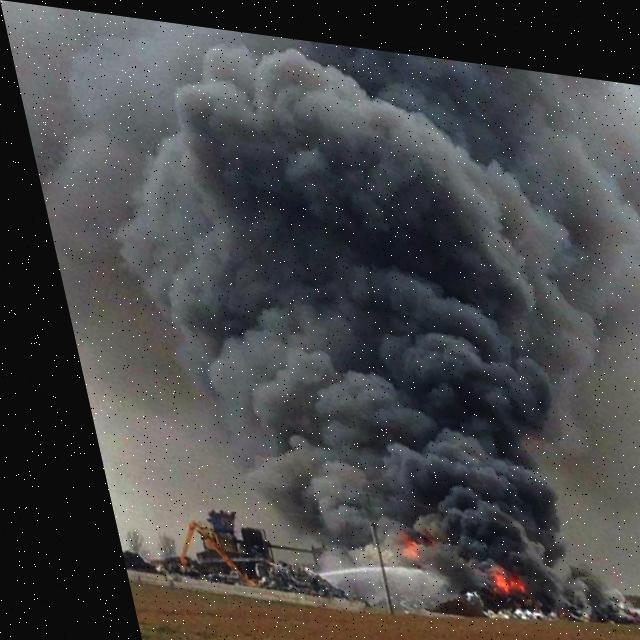Fire: (461, 554, 506, 590), (373, 527, 400, 555)
